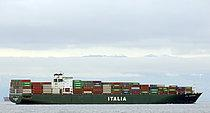Ship: (5, 69, 206, 109)
